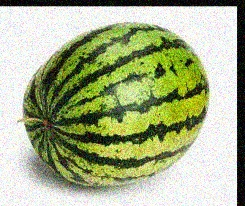watermelon: (21, 21, 210, 187)
